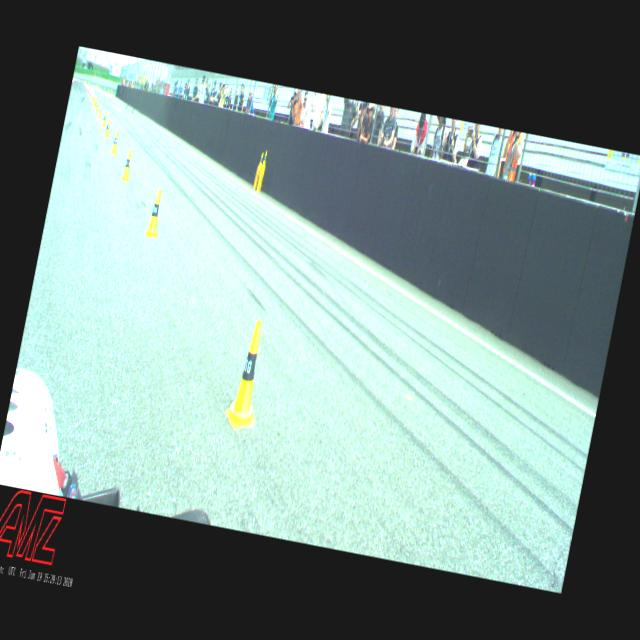yellow_cone: (222, 318, 274, 432), (145, 188, 166, 238), (120, 149, 134, 182), (110, 130, 120, 154), (104, 119, 112, 138), (258, 152, 266, 168), (261, 150, 268, 168), (102, 111, 108, 128), (95, 101, 100, 112), (98, 105, 102, 118), (94, 98, 98, 108), (93, 96, 97, 105), (90, 92, 94, 100), (92, 94, 95, 102)
